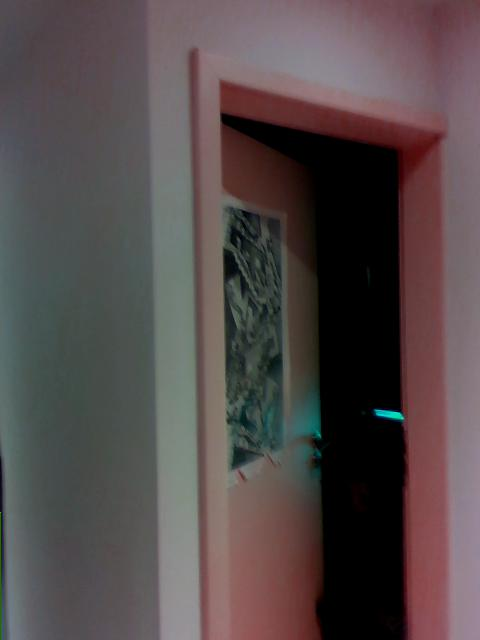semi_door: (187, 40, 457, 639)
